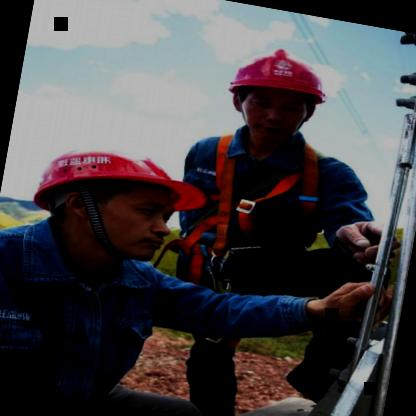helmet: (18, 118, 207, 274), (206, 32, 348, 162)
